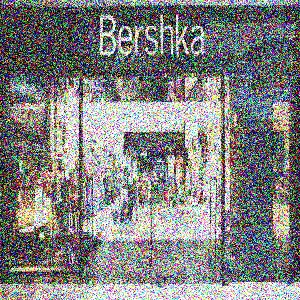bershka: (156, 6, 254, 18)
